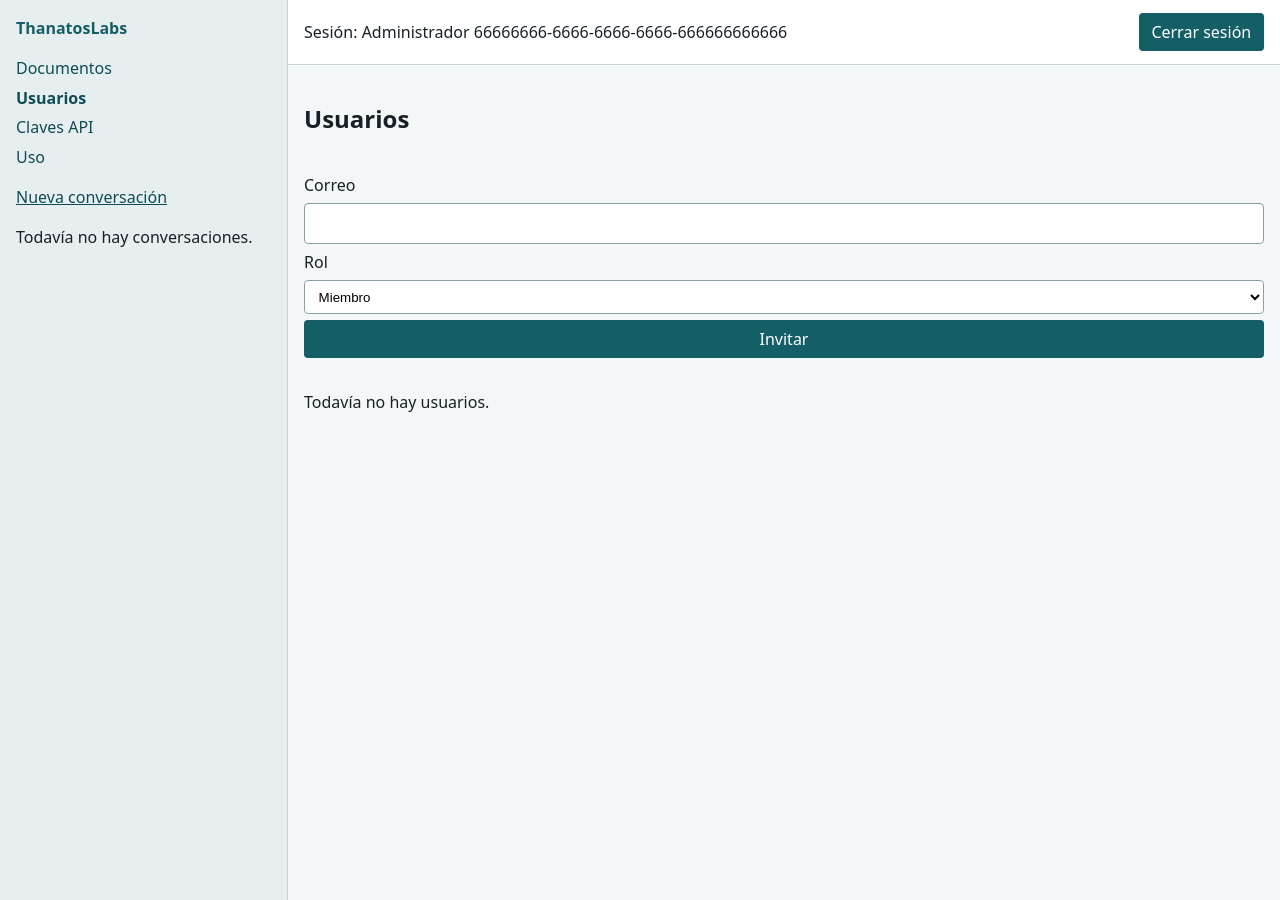
Test case: el token de activación se muestra una vez y no entra en la caché
The image size is (1280, 900).
expect the heading "Usuarios" is shown: met, box [304, 102, 409, 135]
Step 1. Type "ana@acme.test" into the field labelled "Correo" → (784, 223), box [304, 203, 1264, 244]
Step 2. Select "Administrador" in the dropdown labelled "Rol" → (784, 297), box [304, 280, 1264, 314]
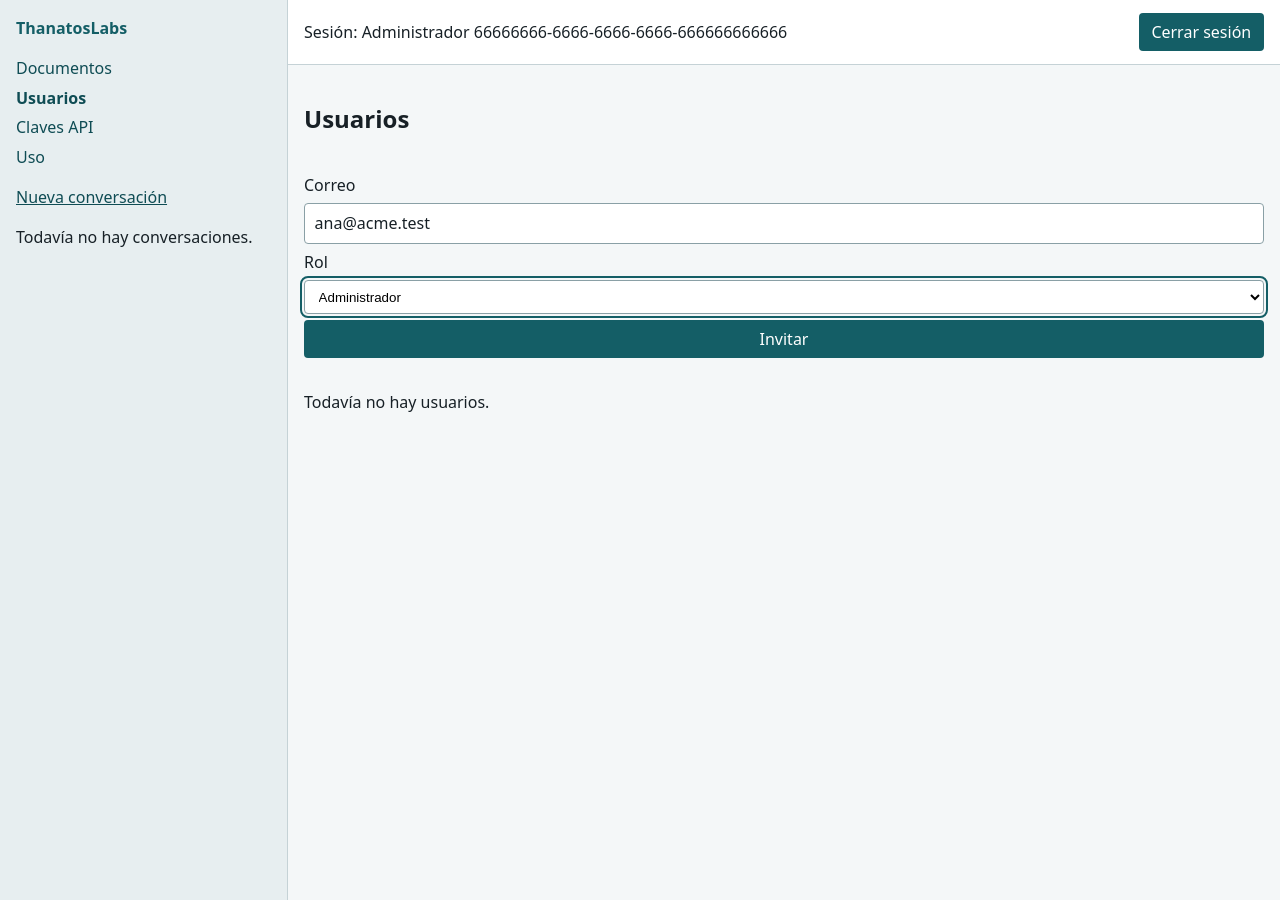
Step 3. Click the button "Invitar" → (784, 339), box [304, 320, 1264, 358]
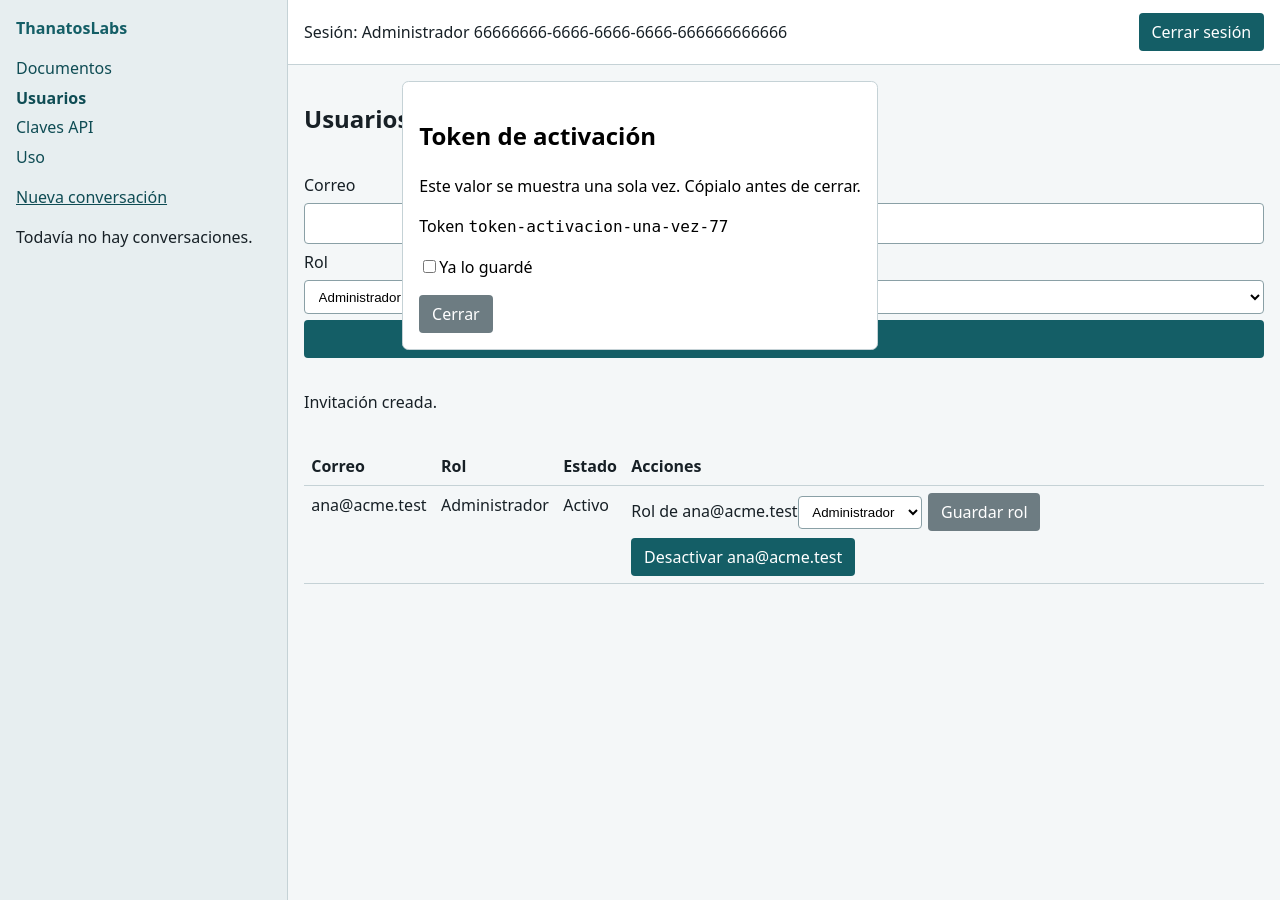
expect the text "token-activacion-una-vez-77" is shown: met, box [468, 217, 728, 236]
expect the button "Cerrar" is disabled: met, box [419, 295, 492, 333]
Step 4. Click the checkbox labelled "Ya lo guardé" → (430, 266), box [423, 260, 436, 273]
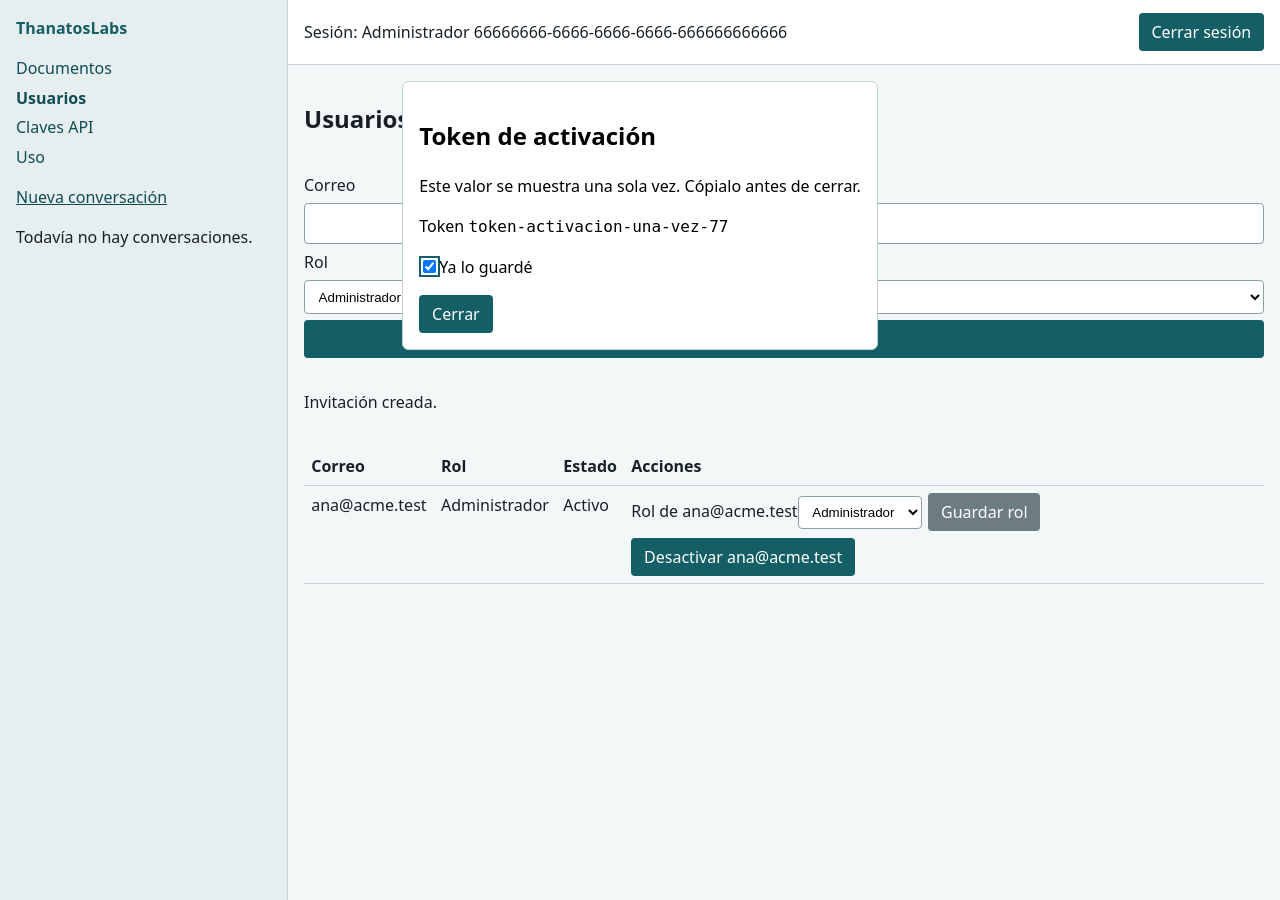
Step 5. Click the button "Cerrar" → (456, 314), box [419, 295, 492, 333]
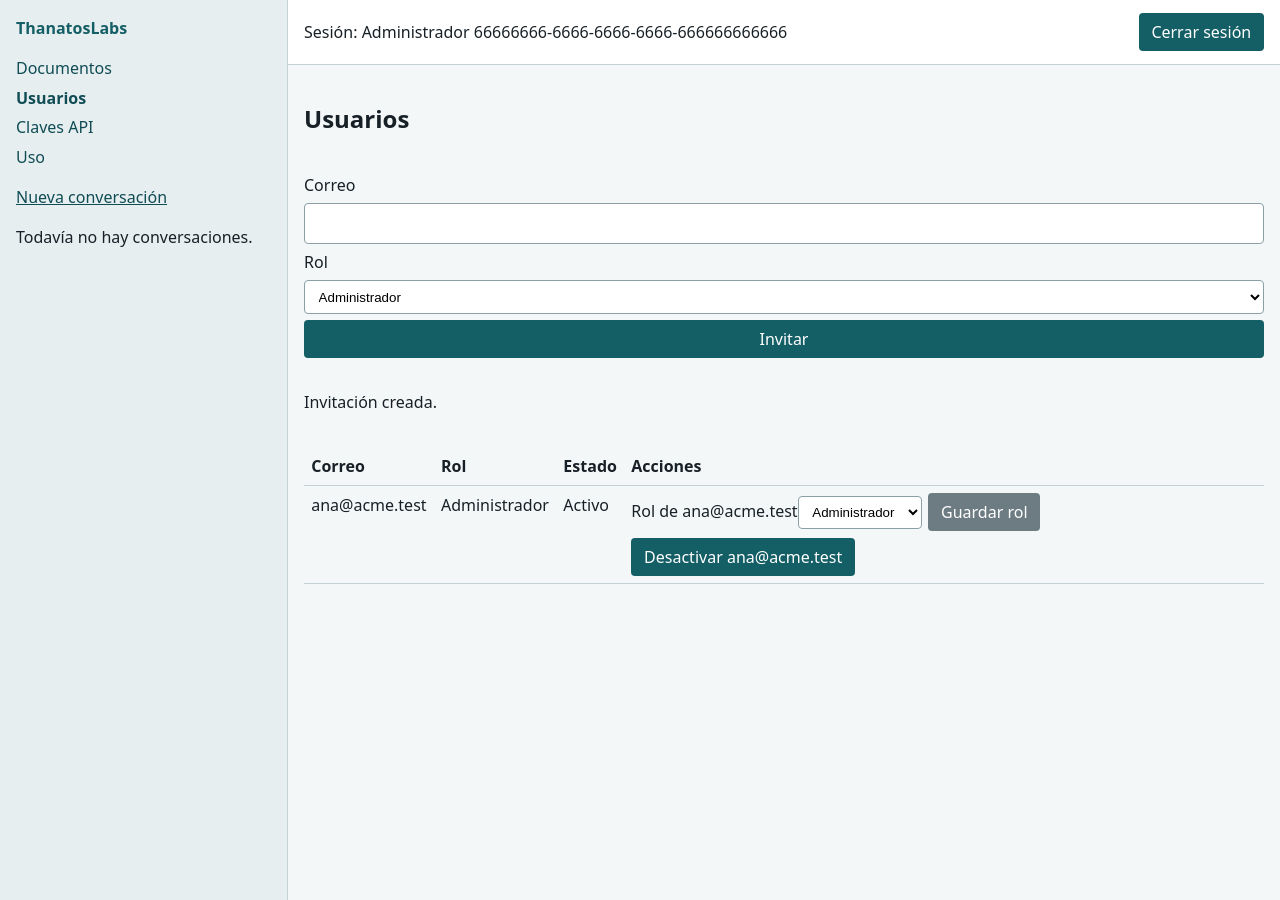
expect the text "ana@acme.test" is shown: met, box [304, 485, 434, 584]
expect the text "token-activacion-una-vez-77" is gone: met
Step 6. Select "Miembro" in the dropdown labelled "Rol de ana@acme.test" → (860, 512), box [798, 496, 922, 529]
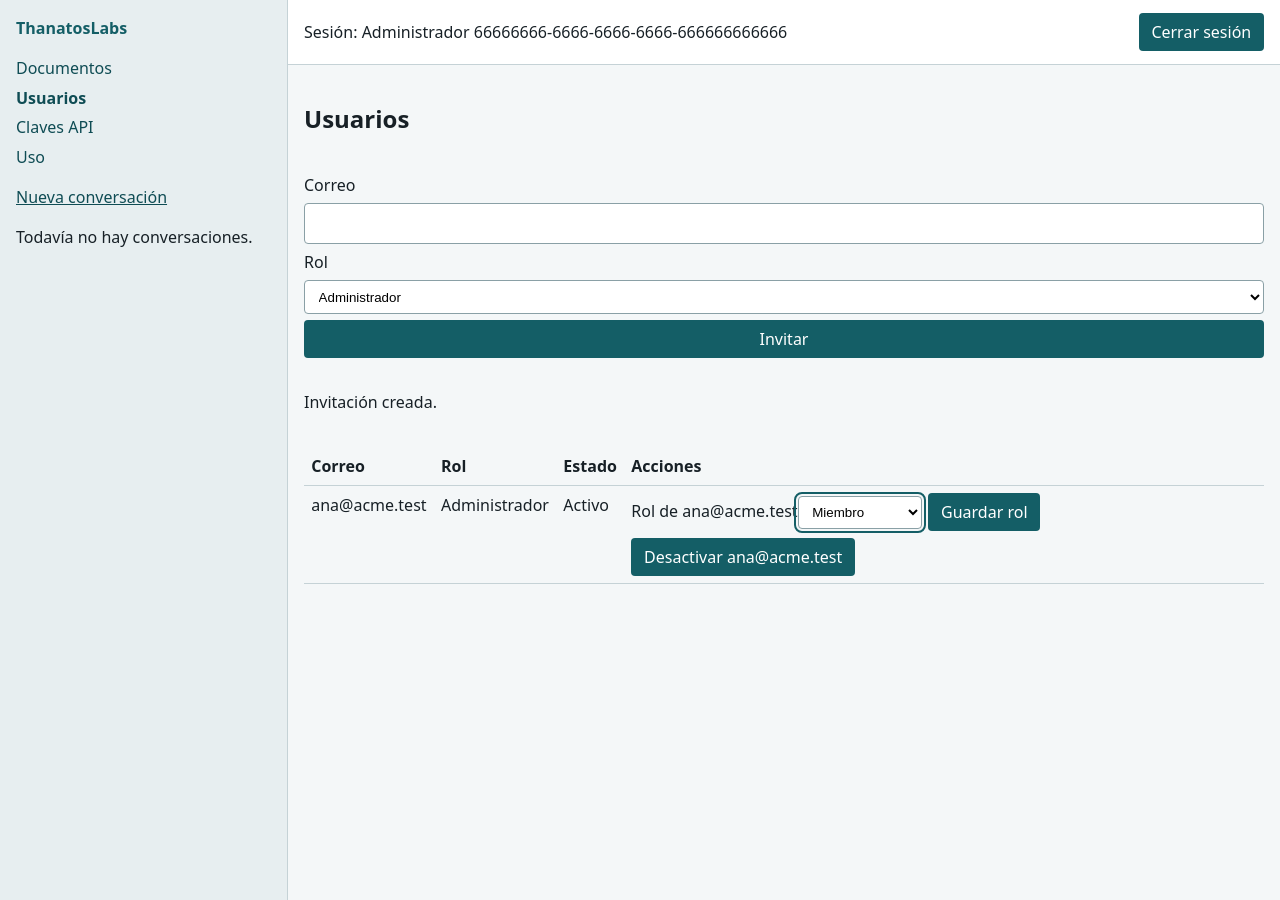
Step 7. Click the button "Guardar rol" → (984, 512), box [928, 493, 1040, 531]
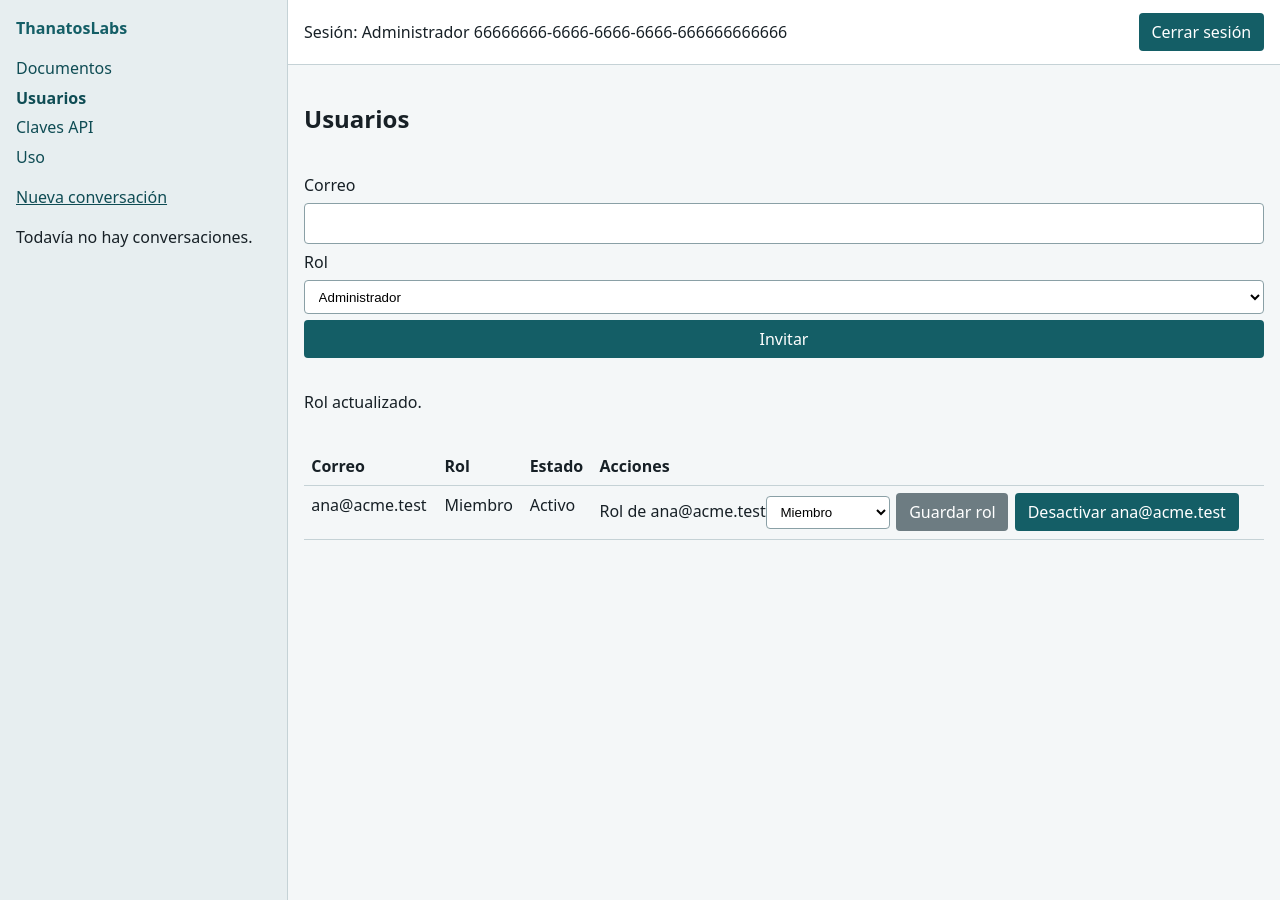
expect the text "Rol actualizado." is shown: met, box [304, 392, 422, 414]
expect the cell "Miembro" is shown: met, box [437, 485, 522, 539]
